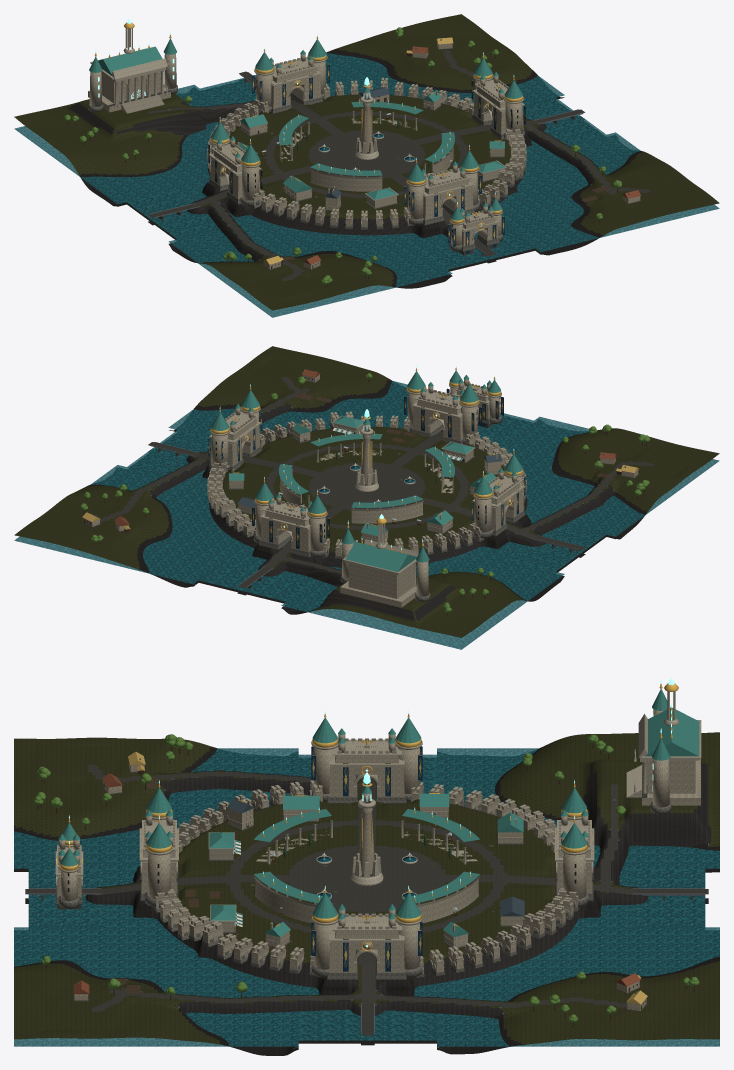
File: world-lod2.glb
3 renders of one model, top to bottom at view 1: azimuth 30°, elevation 25°; view 2: azimuth 150°, elevation 25°; view 3: azimuth 270°, elevation 25°, orthographic. The views are drawn at different scales.
Parts seen in each view (by area): view 1: Terrain_Meadow, Water_Lake, Terrain_Shore, Terrain_Rock, Terrain_Paving, Terrain_Shore_StreamCell_four-gates-crownwater, Terrain_Shore_StreamCell_four-gates-ssarathi, Terrain_Meadow_StreamCell_four-gates-sunmane, Water_StreamCauseway_four-gates-crownwater_StreamCell_four-g, Northern_Sanctuary__Northern_Sanctuary__solid__fg_stone_ashl, Gate_South_Inner__Gate_South_Inner__solid__fg_stone_ashlar, Terrain_Meadow_StreamCell_mirrorhold-four-gates (+30 smaller); view 2: Terrain_Meadow, Water_Lake, Terrain_Shore, Terrain_Paving, Terrain_Rock, Northern_Sanctuary__Northern_Sanctuary__solid__fg_stone_ashl, Terrain_Shore_StreamCell_four-gates-crownwater, Terrain_Shore_StreamCell_mirrorhold-four-gates, Terrain_Meadow_StreamCell_four-gates-sunmane, Water_StreamCauseway_mirrorhold-four-gates_StreamCell_mirror, Gate_North__Gate_North__solid__fg_stone_ashlar, Water_StreamCauseway_four-gates-crownwater_StreamCell_four-g (+31 smaller); view 3: Terrain_Meadow, Water_Lake, Terrain_Shore, Terrain_Rock, Terrain_Paving, Terrain_Shore_StreamCell_mirrorhold-four-gates, Terrain_Shore_StreamCell_four-gates-ssarathi, Terrain_Shore_StreamCell_four-gates-sunmane, Gate_East__Gate_East__solid__fg_stone_ashlar, Gate_West__Gate_West__solid__fg_stone_ashlar, Terrain_Meadow_StreamCell_mirrorhold-four-gates, Water_StreamCauseway_mirrorhold-four-gates_StreamCell_mirror (+42 smaller).
Boxes of the visible parts, x1,y1,x2,y2 form: Terrain_Meadow: [14, 14, 719, 310]; Water_Lake: [14, 53, 719, 317]; Terrain_Shore: [79, 49, 643, 288]; Terrain_Rock: [69, 99, 604, 260]; Terrain_Paving: [147, 50, 650, 281]; Terrain_Shore_StreamCell_four-gates-crownwater: [127, 182, 255, 240]; Terrain_Shore_StreamCell_four-gates-ssarathi: [402, 213, 534, 271]; Terrain_Meadow_StreamCell_four-gates-sunmane: [399, 108, 547, 157]; Water_StreamCauseway_four-gates-crownwater_StreamCell_four-g: [127, 191, 219, 239]; Northern_Sanctuary__Northern_Sanctuary__solid__fg_stone_ashl: [88, 53, 176, 112]; Gate_South_Inner__Gate_South_Inner__solid__fg_stone_ashlar: [408, 165, 478, 219]; Terrain_Meadow_StreamCell_mirrorhold-four-gates: [258, 95, 378, 141]; Terrain_Meadow: [14, 346, 719, 637]; Water_Lake: [14, 381, 719, 649]; Terrain_Shore: [86, 378, 646, 614]; Terrain_Paving: [100, 376, 653, 573]; Terrain_Rock: [141, 403, 612, 621]; Northern_Sanctuary__Northern_Sanctuary__solid__fg_stone_ashl: [340, 543, 428, 607]; Terrain_Shore_StreamCell_four-gates-crownwater: [475, 514, 605, 573]; Terrain_Shore_StreamCell_mirrorhold-four-gates: [199, 544, 315, 603]; Terrain_Meadow_StreamCell_four-gates-sunmane: [172, 440, 335, 490]; Water_StreamCauseway_mirrorhold-four-gates_StreamCell_mirror: [199, 561, 312, 601]; Gate_North__Gate_North__solid__fg_stone_ashlar: [255, 497, 325, 551]; Water_StreamCauseway_four-gates-crownwater_StreamCell_four-g: [510, 524, 605, 571]; Terrain_Meadow: [14, 732, 719, 1044]; Water_Lake: [14, 748, 719, 1046]; Terrain_Shore: [14, 747, 719, 1055]; Terrain_Rock: [157, 762, 711, 1023]; Terrain_Paving: [88, 764, 627, 1011]; Terrain_Shore_StreamCell_mirrorhold-four-gates: [580, 872, 704, 935]; Terrain_Shore_StreamCell_four-gates-ssarathi: [29, 866, 156, 934]; Terrain_Shore_StreamCell_four-gates-sunmane: [298, 977, 436, 1043]; Gate_East__Gate_East__solid__fg_stone_ashlar: [313, 910, 420, 972]; Gate_West__Gate_West__solid__fg_stone_ashlar: [313, 734, 420, 797]; Terrain_Meadow_StreamCell_mirrorhold-four-gates: [454, 850, 636, 908]; Water_StreamCauseway_mirrorhold-four-gates_StreamCell_mirror: [632, 868, 705, 927].
Size of the model in its own units: 408 by 92.25 by 408.
36 materials, 36 textured.
